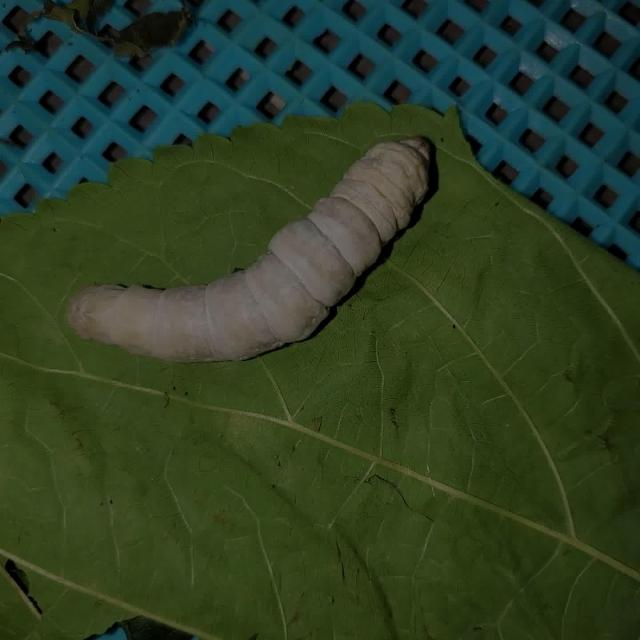Grasserie: (54, 122, 456, 404)
